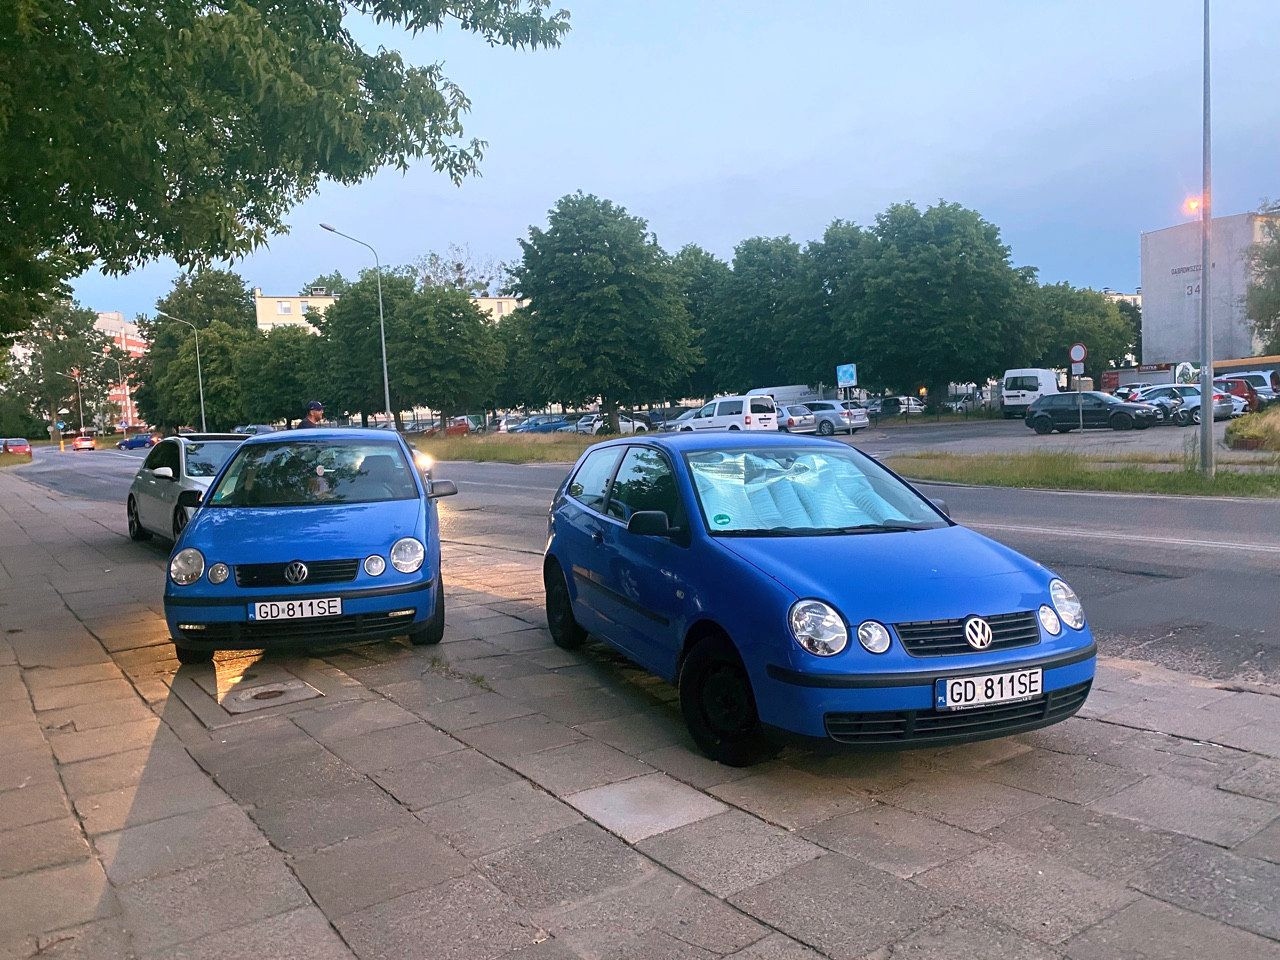number_plate: (935, 668, 1045, 710), (246, 596, 345, 618)
